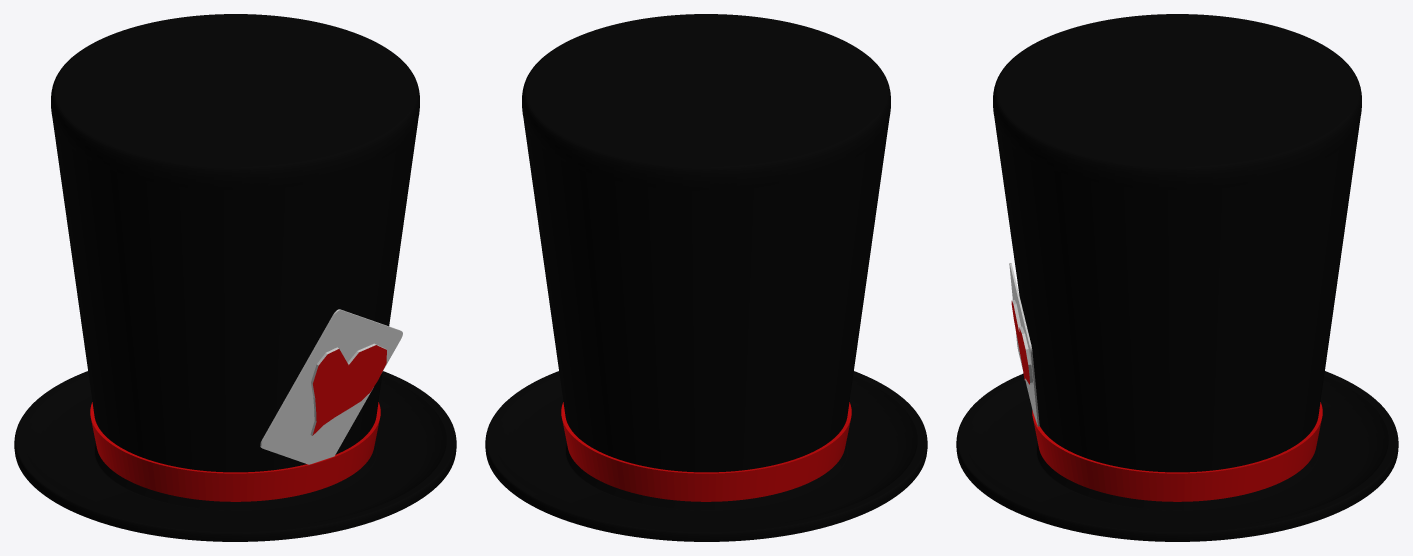
The model's file is topHat.obj.
The picture shows the model from 3 angles, left to right: view 1: azimuth 30°, elevation 25°; view 2: azimuth 150°, elevation 25°; view 3: azimuth 270°, elevation 25°; orthographic projection.
Visible parts, largest first — view 1: Plane_Plane_hat, Plane_Plane_red_heart, Plane_Plane_card_base; view 2: Plane_Plane_hat, Plane_Plane_red_heart; view 3: Plane_Plane_hat, Plane_Plane_red_heart, Plane_Plane_card_base.
Boxes of the visible parts, x1=… form: Plane_Plane_hat: x1=14, y1=14, x2=456, y2=541; Plane_Plane_red_heart: x1=90, y1=345, x2=386, y2=501; Plane_Plane_card_base: x1=260, y1=309, x2=402, y2=464; Plane_Plane_hat: x1=485, y1=14, x2=927, y2=541; Plane_Plane_red_heart: x1=561, y1=402, x2=851, y2=501; Plane_Plane_hat: x1=956, y1=14, x2=1398, y2=541; Plane_Plane_red_heart: x1=1011, y1=301, x2=1322, y2=501; Plane_Plane_card_base: x1=1009, y1=263, x2=1039, y2=426.
Bounding box in the file's own units: 0.8224 × 0.7435 × 0.8224.
